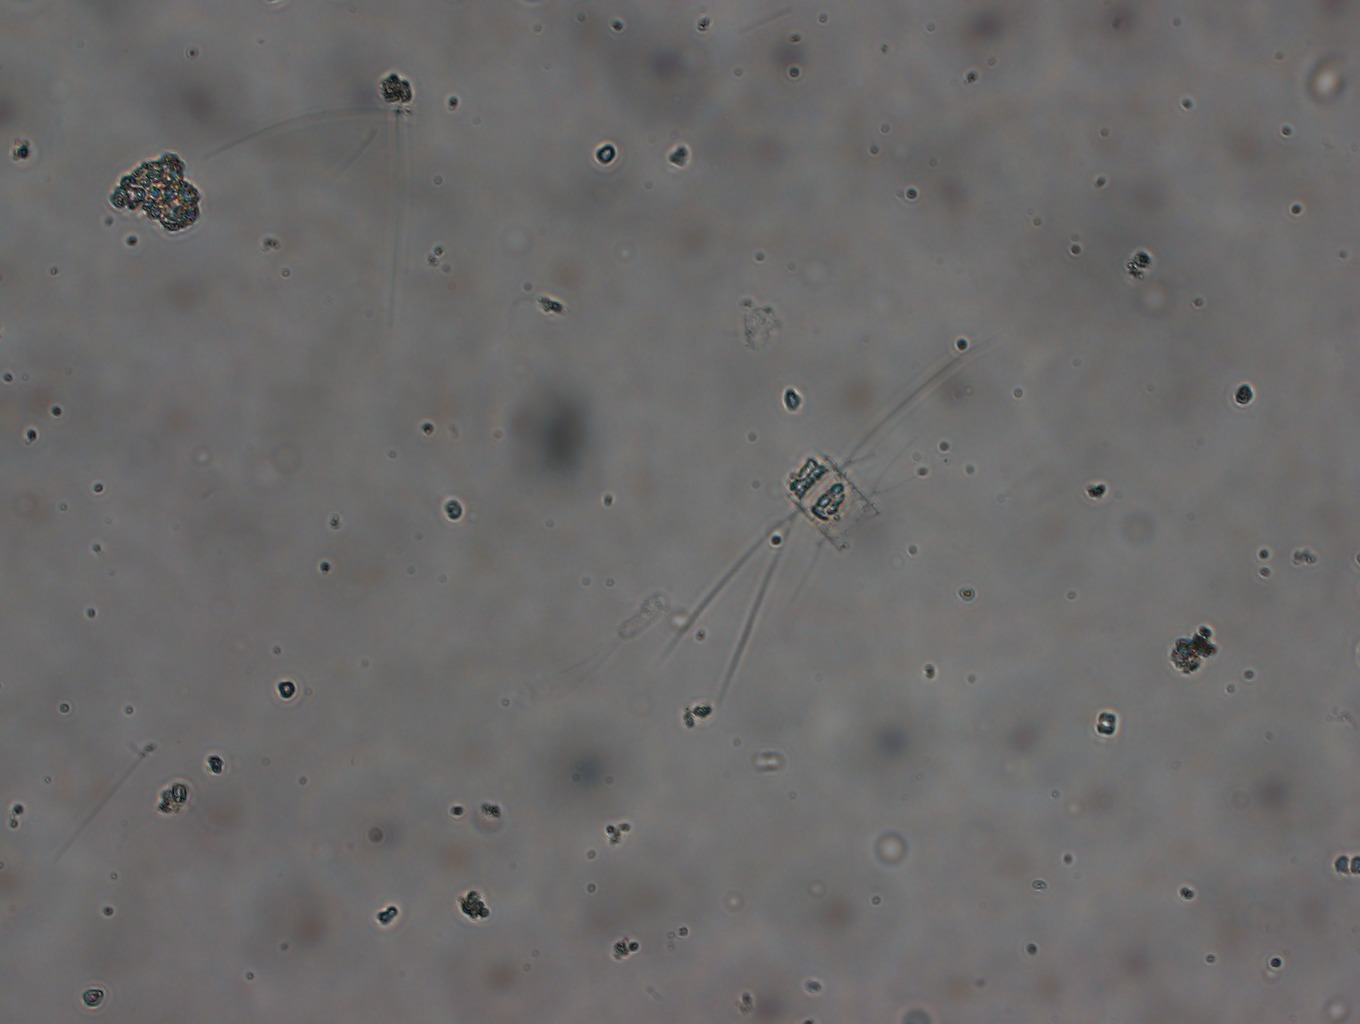chaetoceros: (661, 330, 996, 708)
